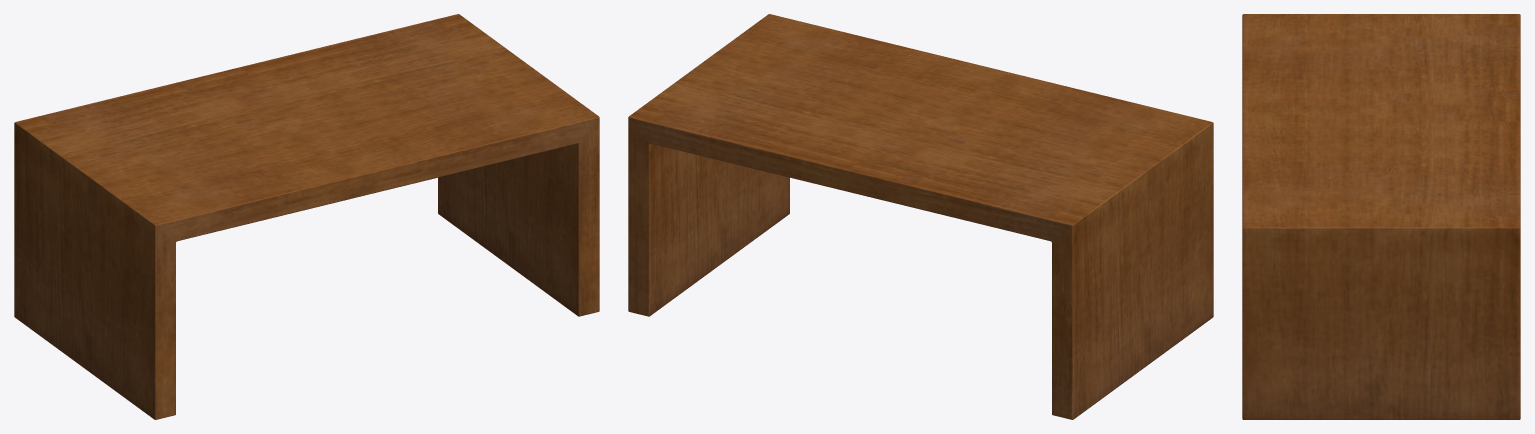
3 views of the same model, side by side, from view 1: azimuth 30°, elevation 25°; view 2: azimuth 150°, elevation 25°; view 3: azimuth 270°, elevation 25° (orthographic).
Parts seen in each view (by area): view 1: RootNode; view 2: RootNode; view 3: RootNode.
Boxes of the visible parts, bbox=[...] form: RootNode: bbox=[14, 14, 599, 419]; RootNode: bbox=[628, 14, 1213, 419]; RootNode: bbox=[1242, 14, 1520, 419].
Size of the model in its own units: 0.9996 by 0.4193 by 0.5488.
Materials: 1 (1 with a texture image).
